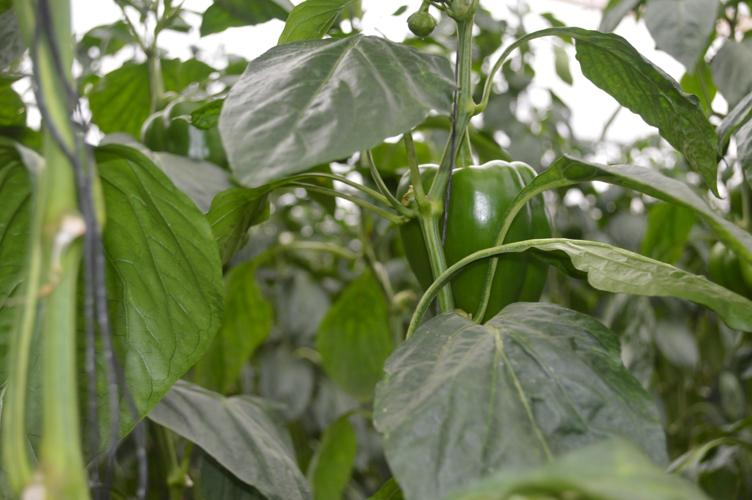BellPepper: (388, 139, 559, 348)
